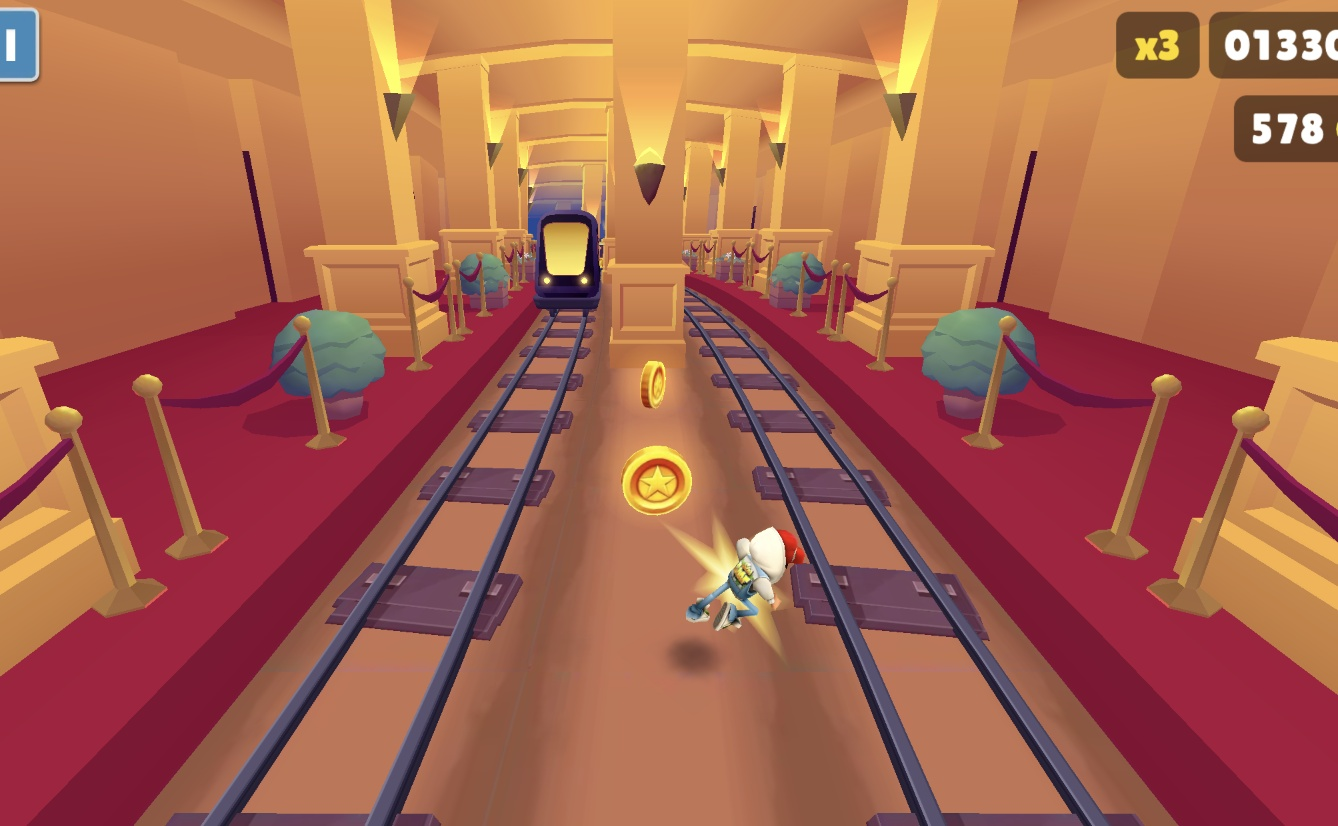pillar: (602, 0, 691, 384)
train: (529, 207, 604, 324)
